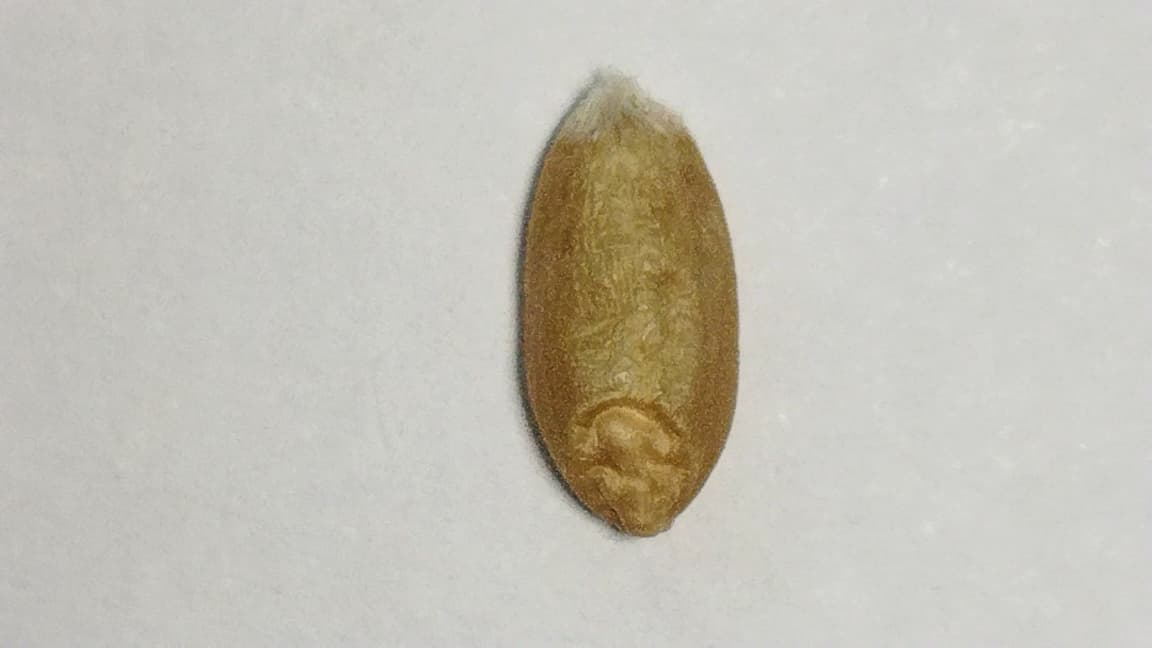healthy: (517, 67, 743, 536)
